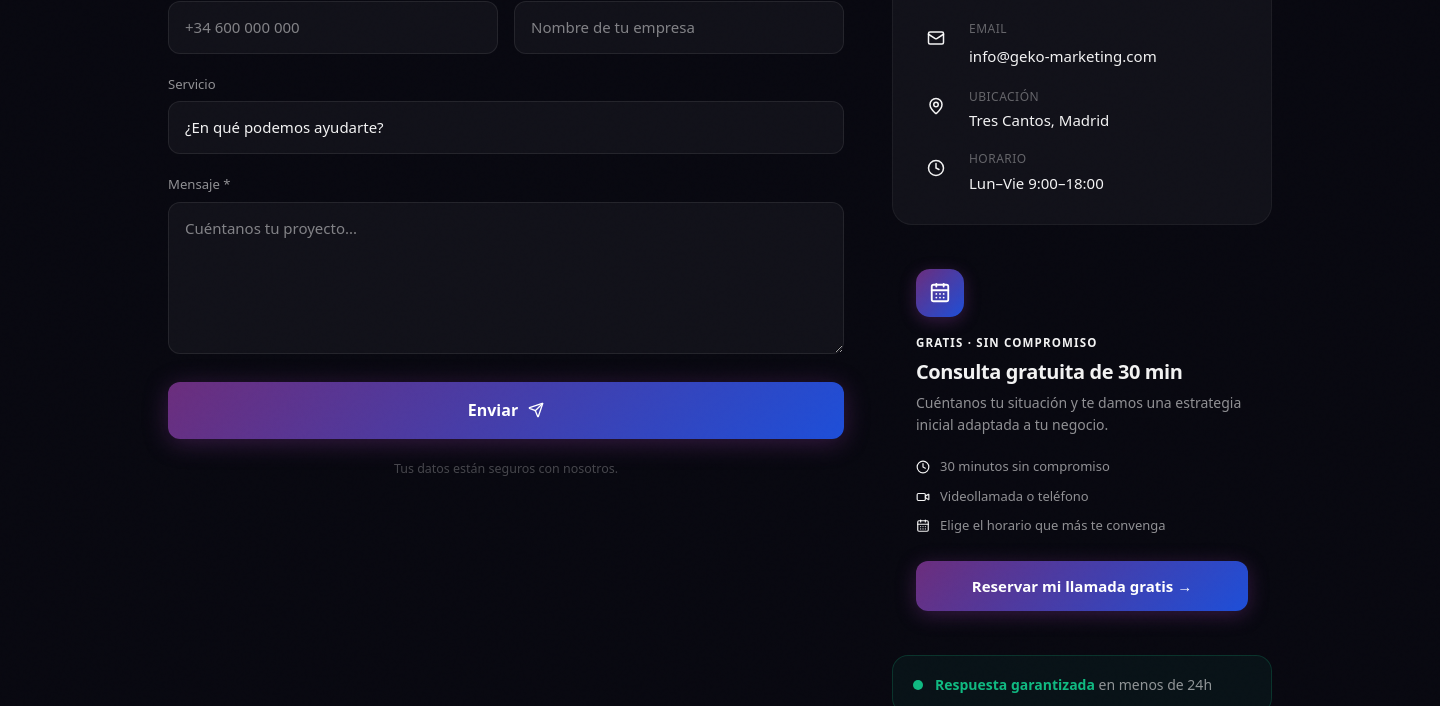
Scenario: ContactoClient — formulario › muestra error de validación si se envía con nombre vacío
This screenshot has width=1440, height=706.
(page scrolled)
Click the button "Enviar" at (506, 410), box left=168, top=382, right=844, bottom=439
(page scrolled)
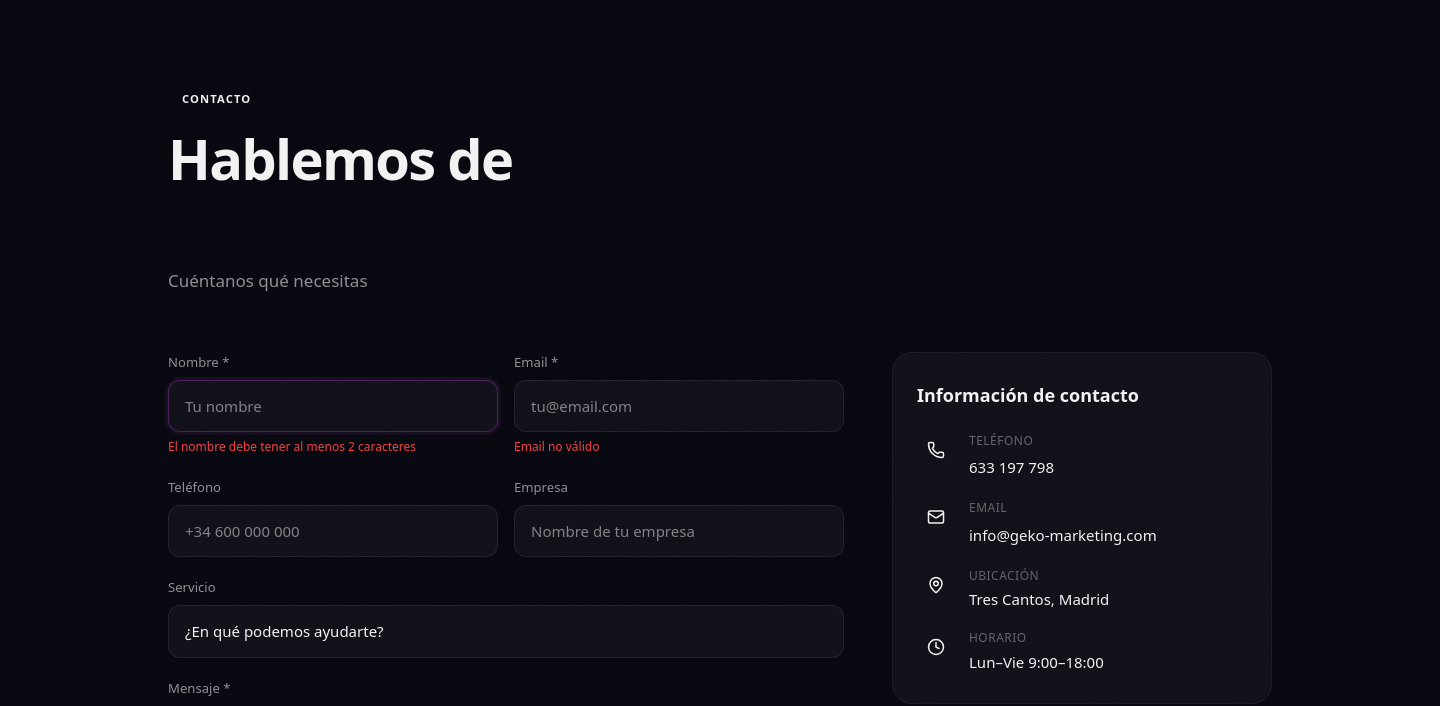
Now the text "El nombre debe tener al menos 2 caracteres" is shown, box left=168, top=438, right=416, bottom=455
